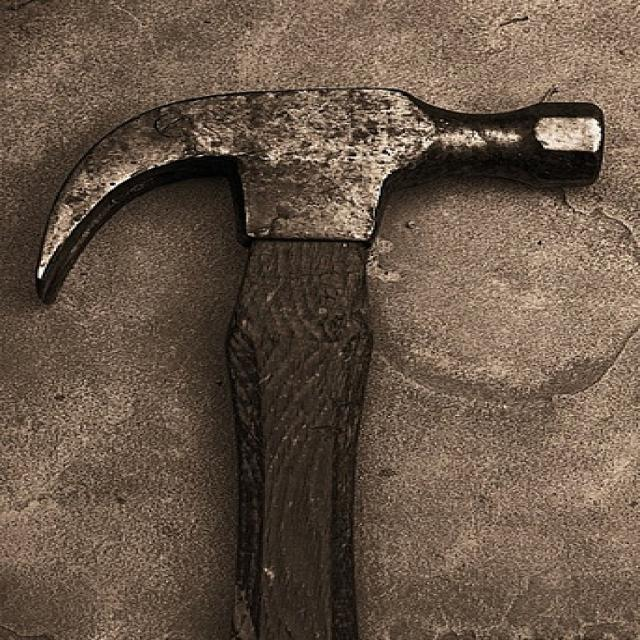hammer: (23, 79, 615, 626)
